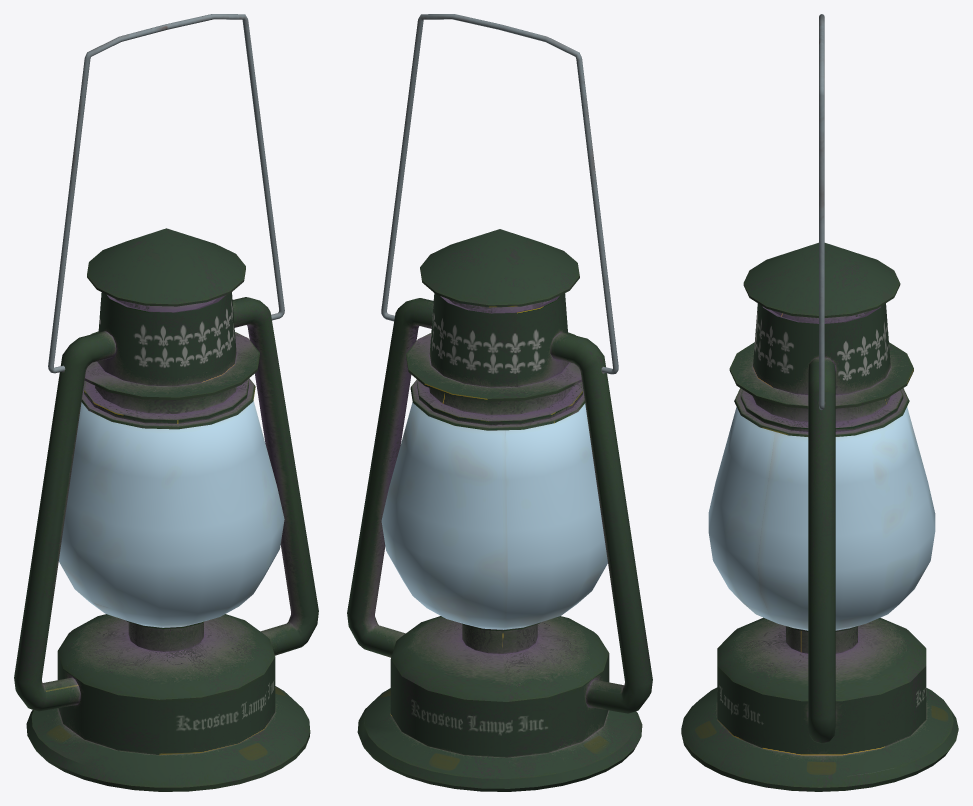
File: KeroseneLamp.fbx
3 views of the same model, side by side, from view 1: azimuth 30°, elevation 25°; view 2: azimuth 150°, elevation 25°; view 3: azimuth 270°, elevation 25° (orthographic). The views are drawn at different scales.
Parts seen in each view (by area): view 1: GlassCoer, Base, Top, Handle, TopHandle; view 2: GlassCoer, Base, Top, Handle, TopHandle; view 3: GlassCoer, Base, Top, Handle, TopHandle.
Part boxes in pixels (<box>): GlassCoer: <box>58,401,284,627</box>; Base: <box>26,614,310,791</box>; Top: <box>81,228,259,429</box>; Handle: <box>14,297,318,711</box>; TopHandle: <box>48,14,284,373</box>; GlassCoer: <box>381,402,607,629</box>; Base: <box>357,616,642,791</box>; Top: <box>406,229,584,430</box>; Handle: <box>347,298,652,713</box>; TopHandle: <box>381,14,618,374</box>; GlassCoer: <box>708,407,935,630</box>; Base: <box>681,617,958,791</box>; Top: <box>729,242,913,436</box>; Handle: <box>808,357,835,743</box>; TopHandle: <box>819,14,824,409</box>.
Size of the model in its own units: 21.72 by 48.83 by 17.79.
